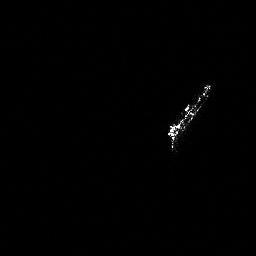ship: (164, 78, 213, 152)
